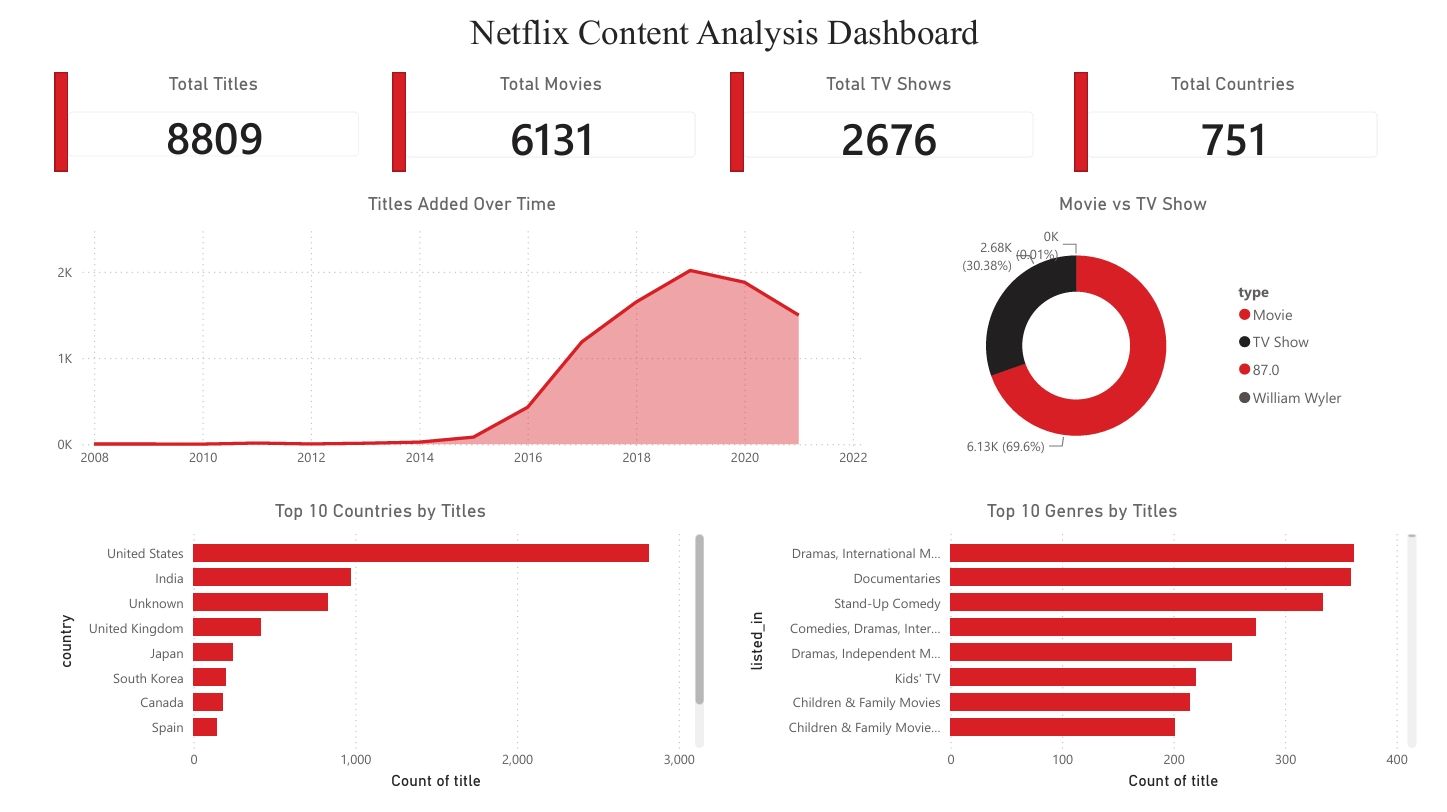

This screenshot's page, from the dashboard's own definition file:
{"tool":"powerbi","page":{"name":"Page 1","canvas":[1280,720],"ordinal":0},"visuals":[{"type":"textbox","box":[0,0,1270,50],"z":0},{"type":"cardVisual","title":"Total Titles","fields":{"Data":["DateTable.Total Titles"]},"box":[23.3,60,290,90],"z":1000},{"type":"cardVisual","title":"Total Movies","fields":{"Data":["DateTable.Total Movies"]},"box":[332.1,60.4,289.5,90.6],"z":2000},{"type":"cardVisual","title":"Total TV Shows","fields":{"Data":["DateTable.Total TV Shows"]},"box":[639.5,60.4,289.5,90.6],"z":3000},{"type":"cardVisual","title":"Total Countries","fields":{"Data":["DateTable.Total Countries"]},"box":[953.7,60.4,289.5,90.6],"z":4000},{"type":"shape","box":[23.3,60.4,12.3,90.6],"z":5000},{"type":"shape","box":[332.1,60.4,12.3,90.6],"z":6000},{"type":"shape","box":[639.5,60.4,12.3,90.6],"z":7000},{"type":"shape","box":[953.7,60.4,12.3,90.6],"z":8000},{"type":"areaChart","title":"Titles Added Over Time","fields":{"Category":["DateTable.Year"],"Y":["CountNonNull(netflix_cleaned.title)"]},"box":[20,170,750,260],"z":9000},{"type":"donutChart","title":" Movie vs TV Show","fields":{"Category":["netflix_cleaned.type"],"Y":["CountNonNull(netflix_cleaned.title)"]},"box":[802.7,170.2,410.3,260.7],"z":10000},{"type":"clusteredBarChart","title":"Top 10 Countries by Titles","fields":{"Category":["netflix_cleaned.country"],"Y":["Count(netflix_cleaned.title)"]},"box":[20.6,450.1,601,270.3],"z":10001},{"type":"clusteredBarChart","title":"Top 10 Genres by Titles","fields":{"Category":["netflix_cleaned.listed_in"],"Y":["CountNonNull(netflix_cleaned.title)"]},"box":[651.8,450.1,620.2,270.3],"z":10002}]}

Visuals, with their boxes in screenshot pixels (x1, y1, x2, y2), scaled from the page's 1280x720 canvas onto the 1447x812 screenshot:
textbox: select_region(0, 0, 1436, 56)
"Total Titles" cardVisual: select_region(26, 68, 354, 169)
"Total Movies" cardVisual: select_region(375, 68, 703, 170)
"Total TV Shows" cardVisual: select_region(723, 68, 1050, 170)
"Total Countries" cardVisual: select_region(1078, 68, 1405, 170)
shape: select_region(26, 68, 40, 170)
shape: select_region(375, 68, 389, 170)
shape: select_region(723, 68, 737, 170)
shape: select_region(1078, 68, 1092, 170)
"Titles Added Over Time" areaChart: select_region(23, 192, 870, 485)
" Movie vs TV Show" donutChart: select_region(907, 192, 1371, 486)
"Top 10 Countries by Titles" clusteredBarChart: select_region(23, 508, 703, 811)
"Top 10 Genres by Titles" clusteredBarChart: select_region(737, 508, 1438, 811)
